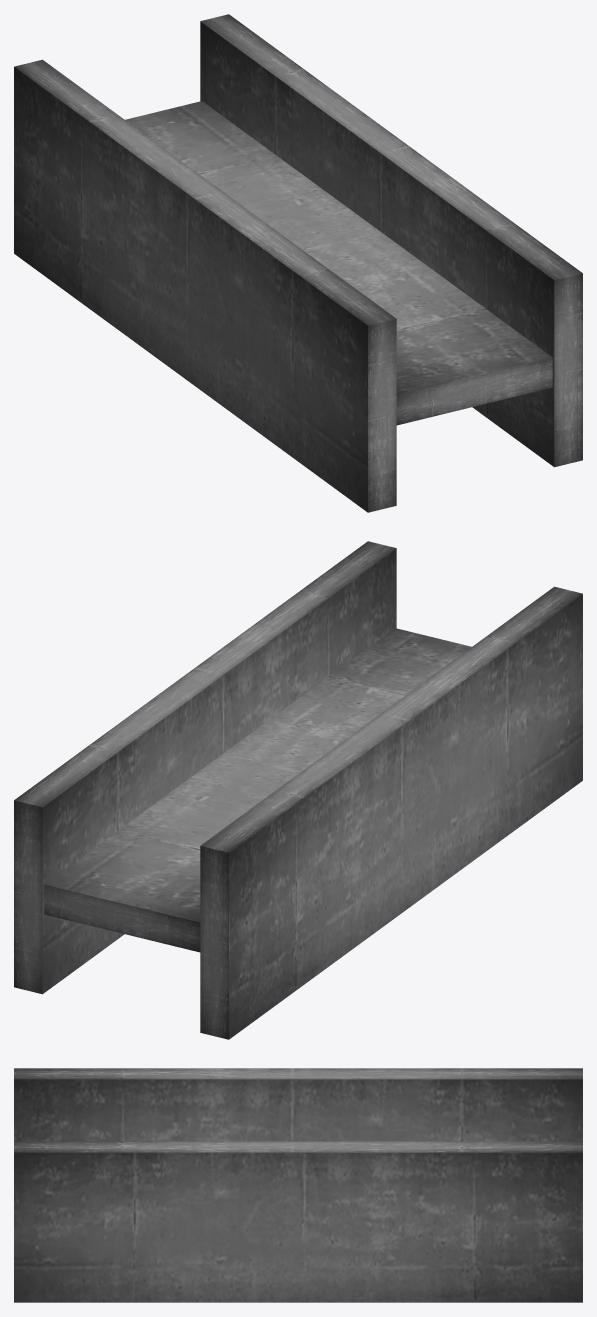
Rendered from static.fbx.
3 renders of one model, top to bottom at view 1: azimuth 30°, elevation 25°; view 2: azimuth 150°, elevation 25°; view 3: azimuth 270°, elevation 25°, orthographic. The views are drawn at different scales.
Visible parts, largest first — view 1: Cube_2, Cube; view 2: Cube_2, Cube; view 3: Cube_2.
Boxes of the visible parts, <box> form: Cube_2: <box>14,14,582,512</box>; Cube: <box>125,101,552,425</box>; Cube_2: <box>14,541,582,1039</box>; Cube: <box>44,628,471,952</box>; Cube_2: <box>14,1068,582,1302</box>.
Bounding box in the file's own units: 35.34 × 29.38 × 101.
Materials: 1 (1 with a texture image).
